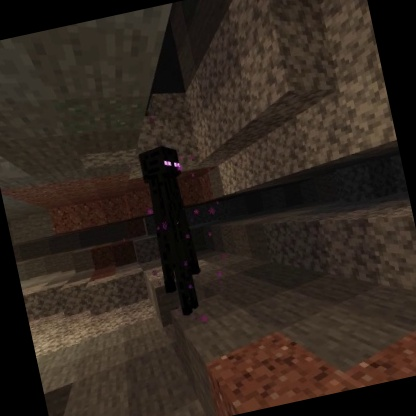enderman: (132, 139, 215, 322)
